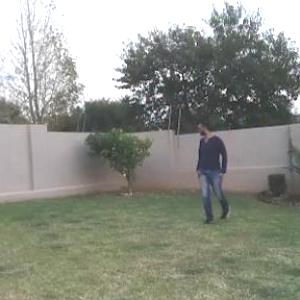follow: (189, 111, 234, 240)
